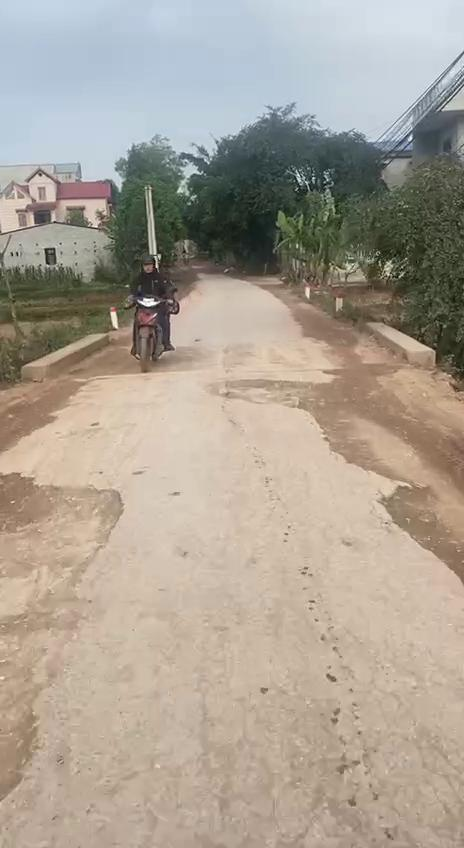pothole: (0, 596, 84, 793), (0, 481, 135, 567), (218, 377, 329, 411)
